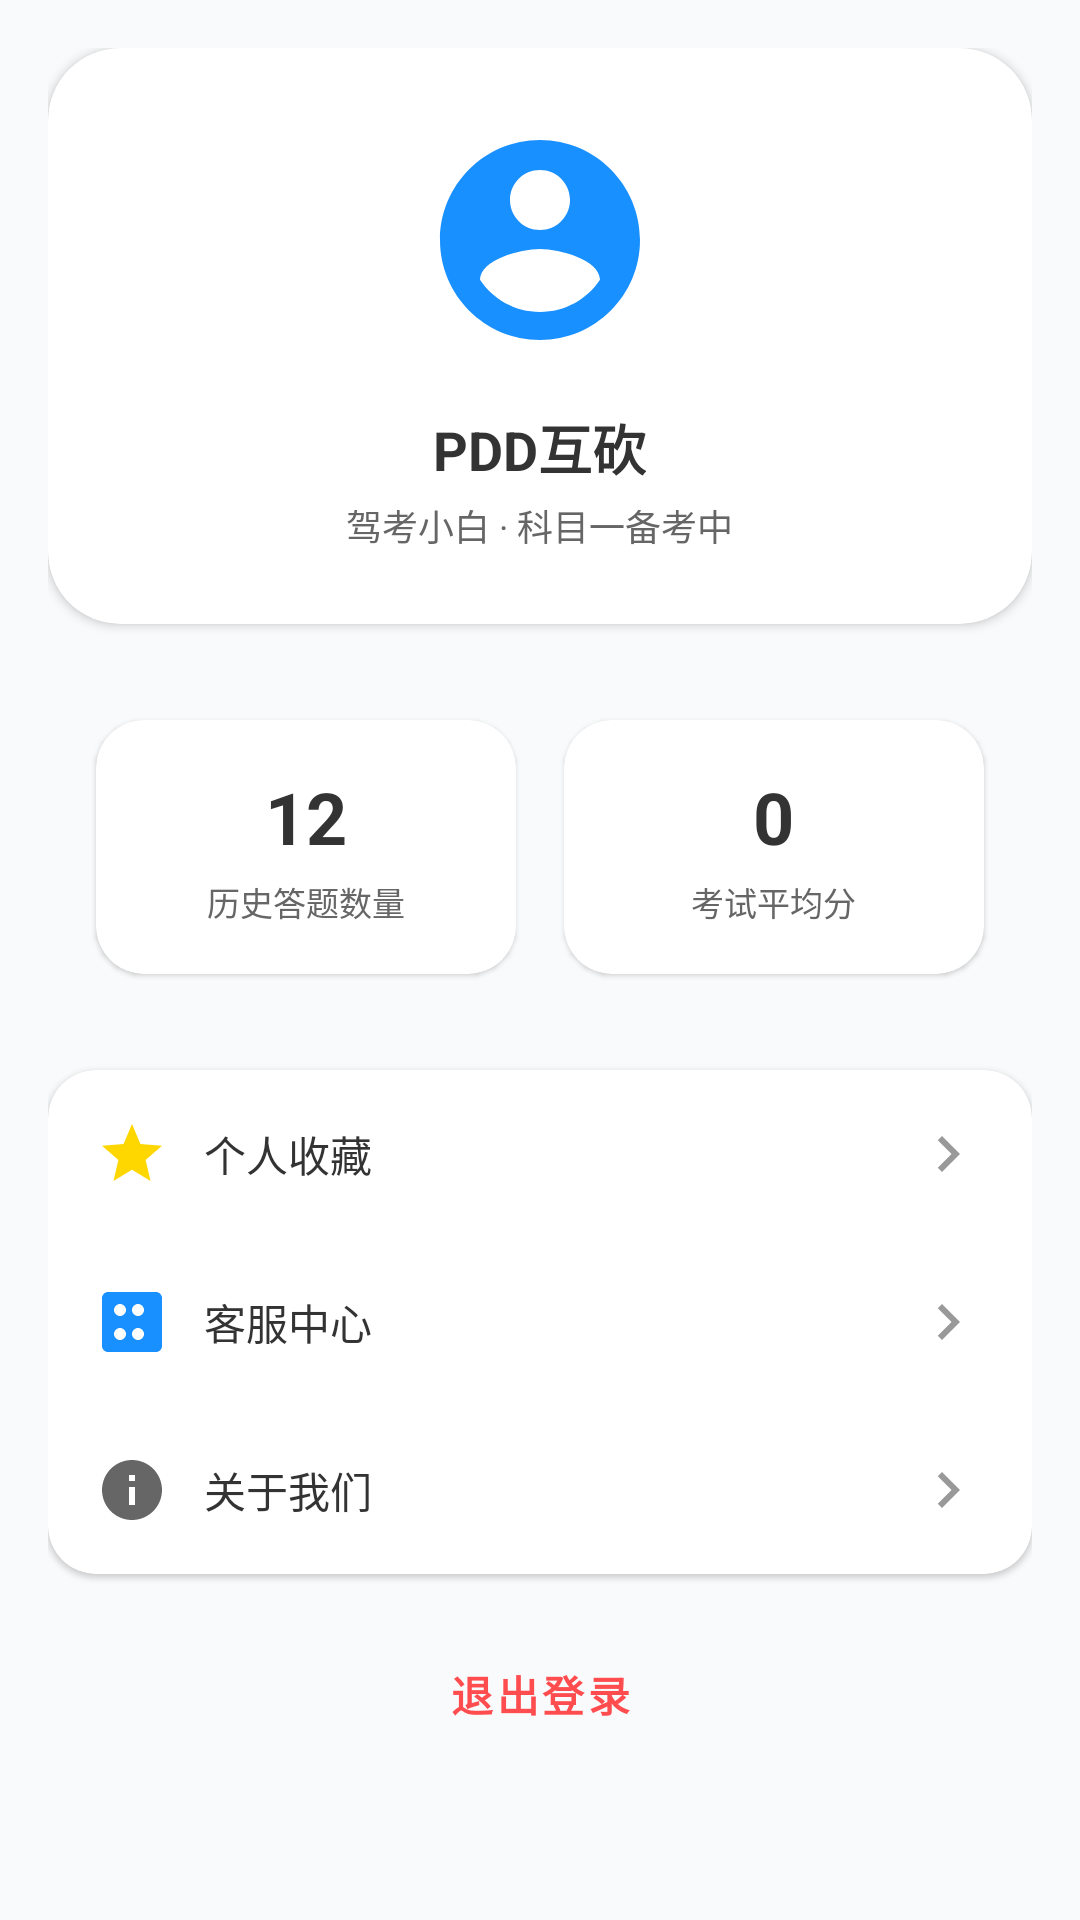

Icon bounding boxes for this 1080 × 1920 phone screenshot, format (left=x1, top=y1, right=x2, bottom=y2):
arrow right: (left=938, top=1136, right=960, bottom=1172), (left=938, top=1304, right=960, bottom=1340), (left=938, top=1472, right=960, bottom=1508)
info: (left=102, top=1460, right=162, bottom=1520)
star: (left=102, top=1124, right=162, bottom=1181)
